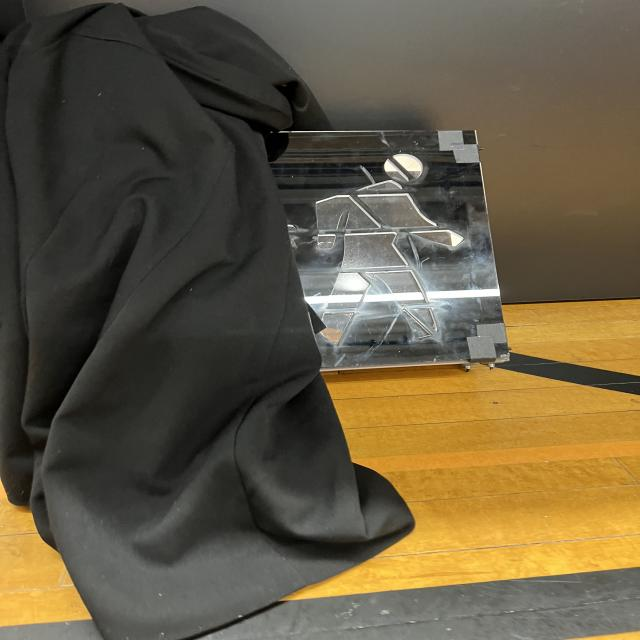go: (278, 127, 492, 359)
